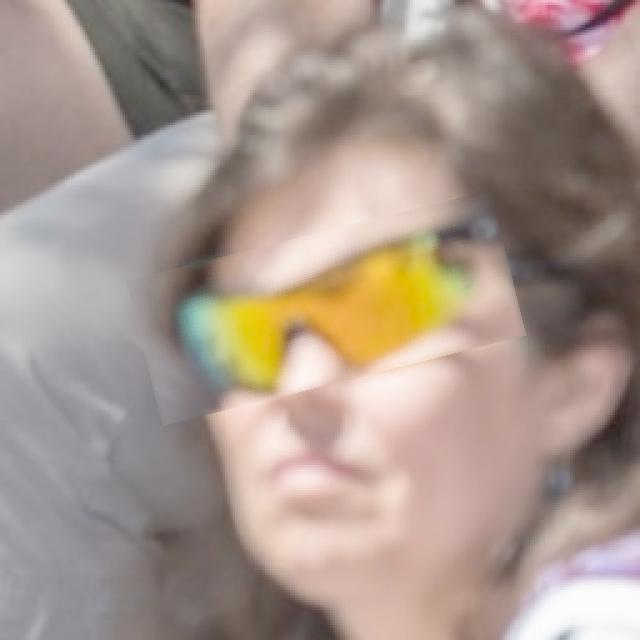glasses: (133, 212, 520, 404)
